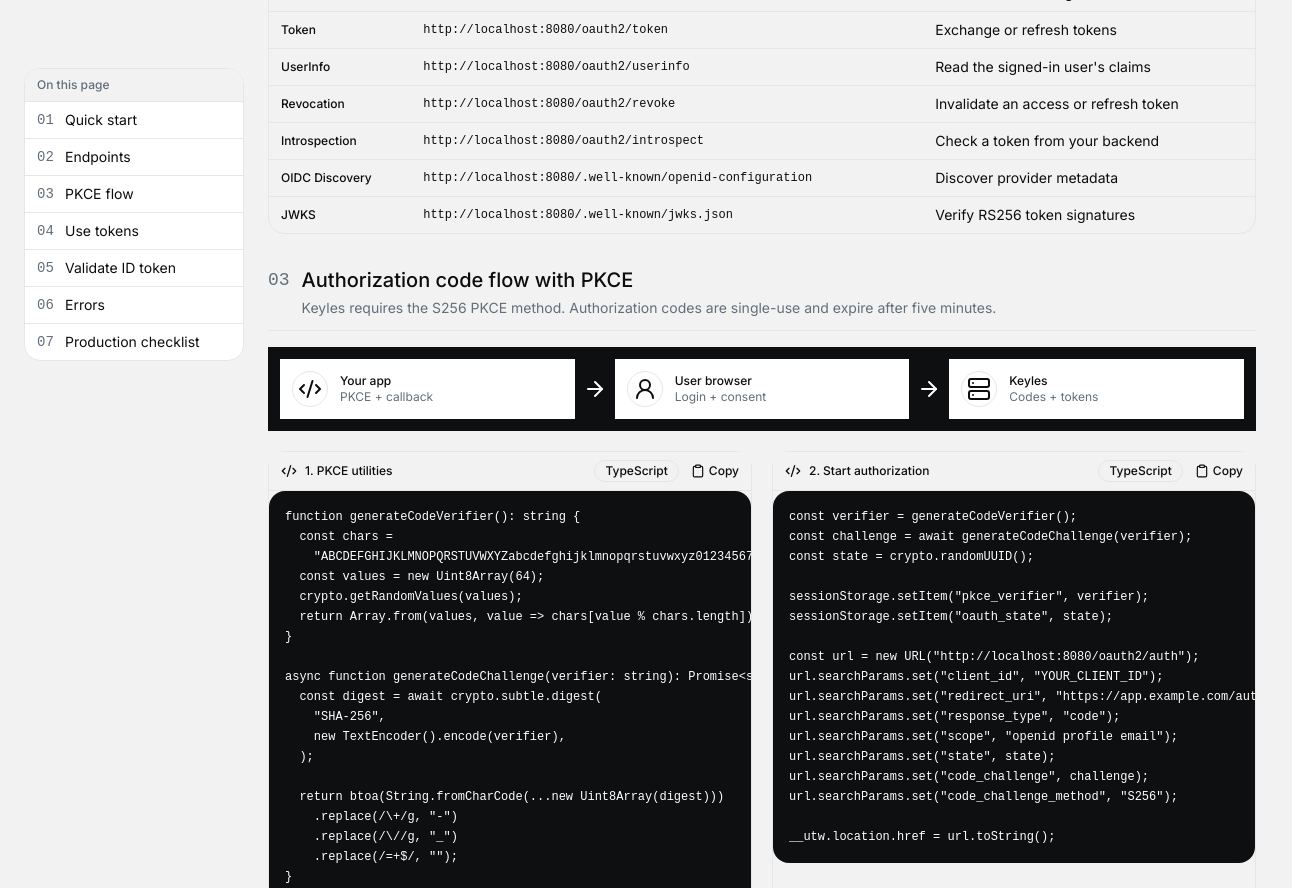
Test: IntegrationGuidePage › copies a code sample
(page scrolled)
Click the button with aria-label "Copy 1. PKCE utilities": (715, 470) [691,462,739,478]
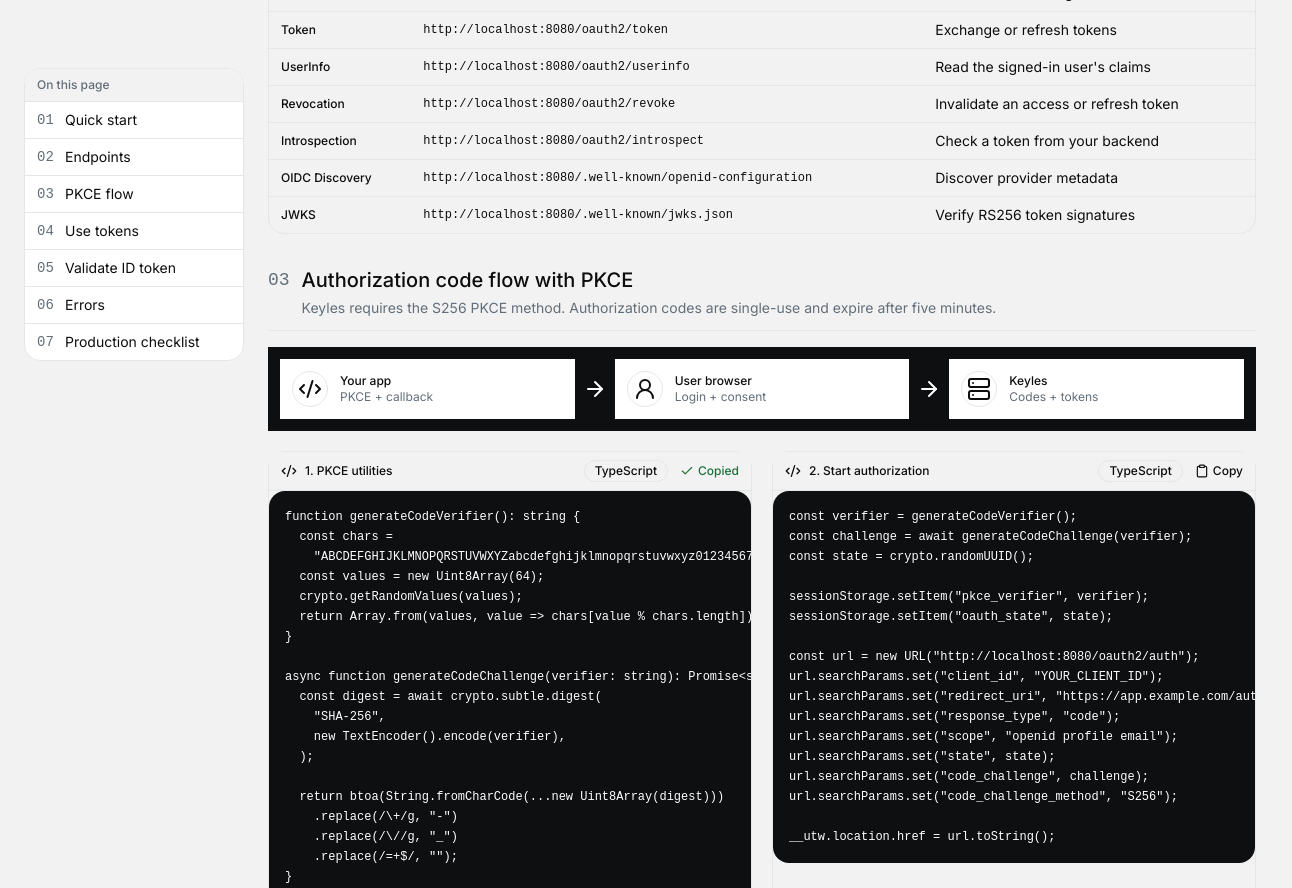
Check: the button with aria-label "Copy 1. PKCE utilities" reads "Copied", box [680,462,739,478]
